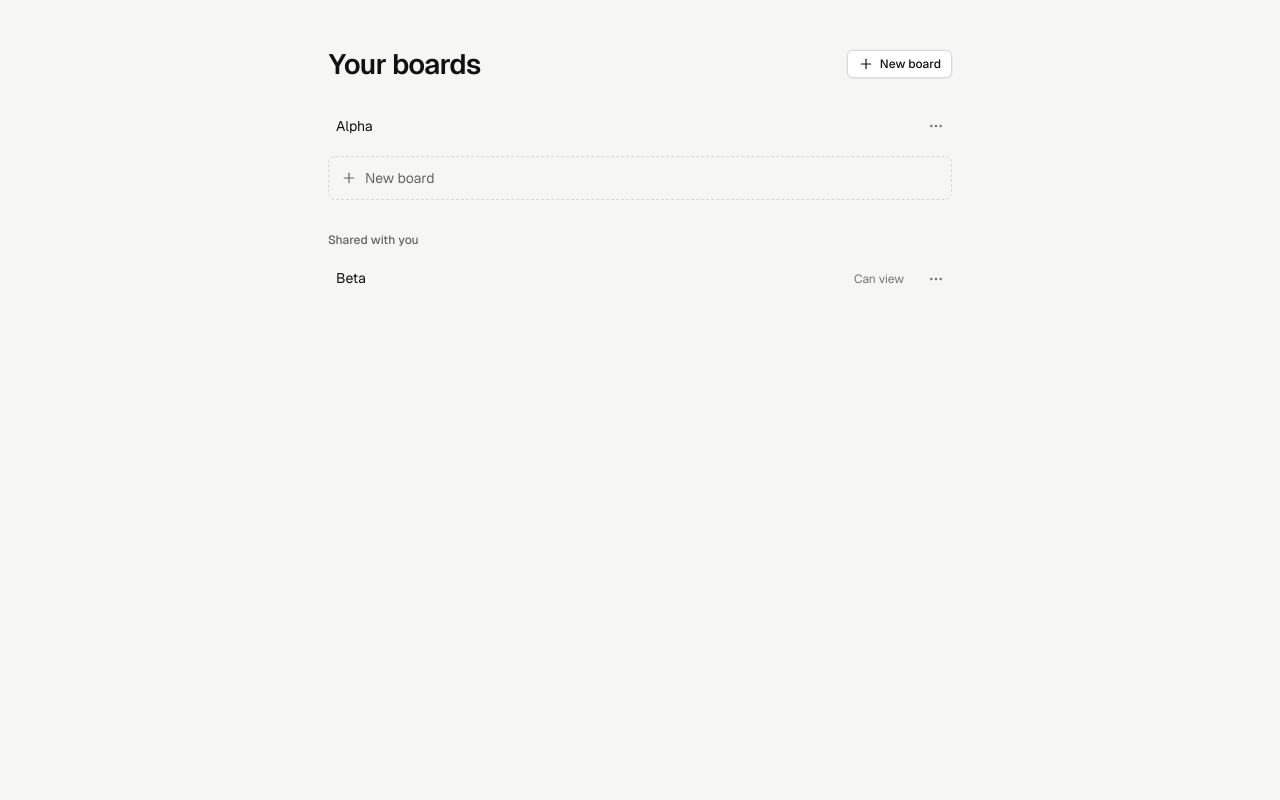
it: BoardHome › confirms a deletion with the board name and note count before deleting
What coordinates should you click on to do the following:
click the button named "Options for Alpha"
I would click on:
 (936, 126)
Its box is [920,110,952,142].
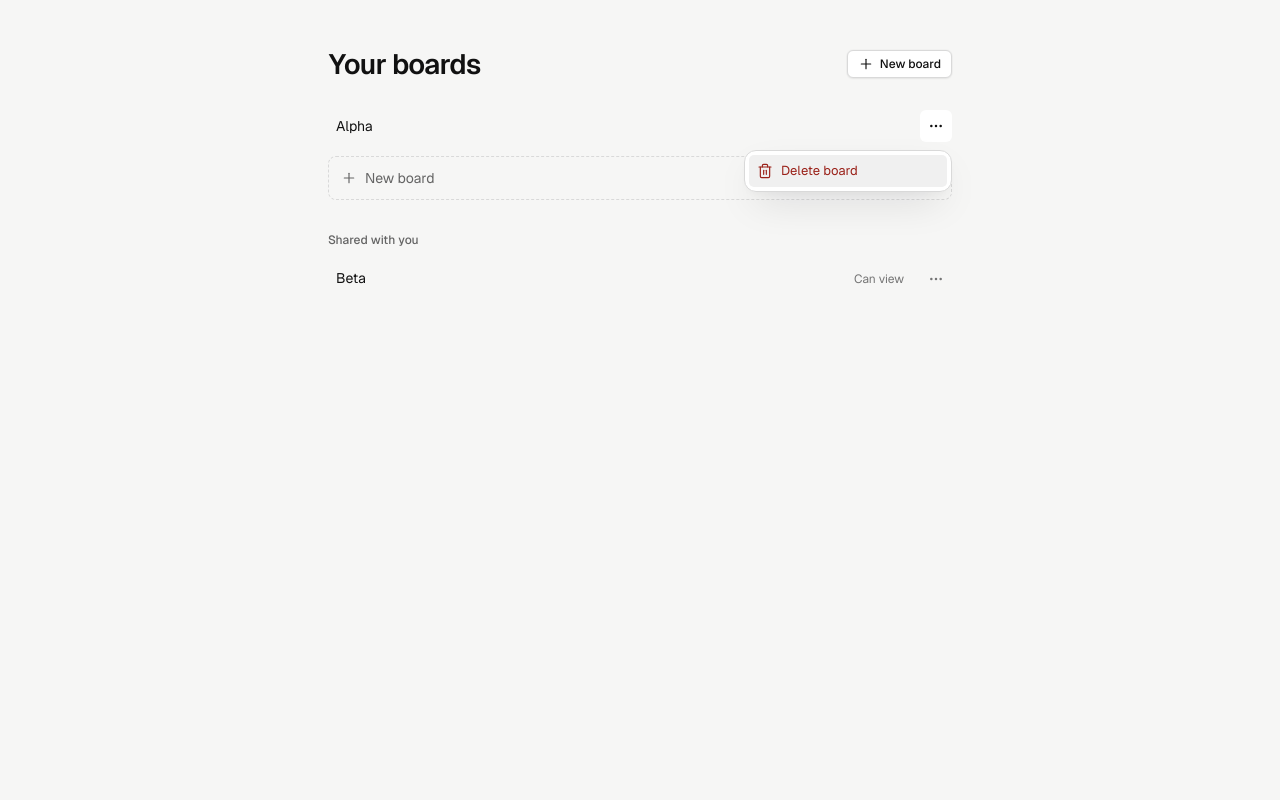
What coordinates should you click on to do the following:
click the button "Delete board"
I would click on:
 (848, 171)
Its box is [749,155,947,187].
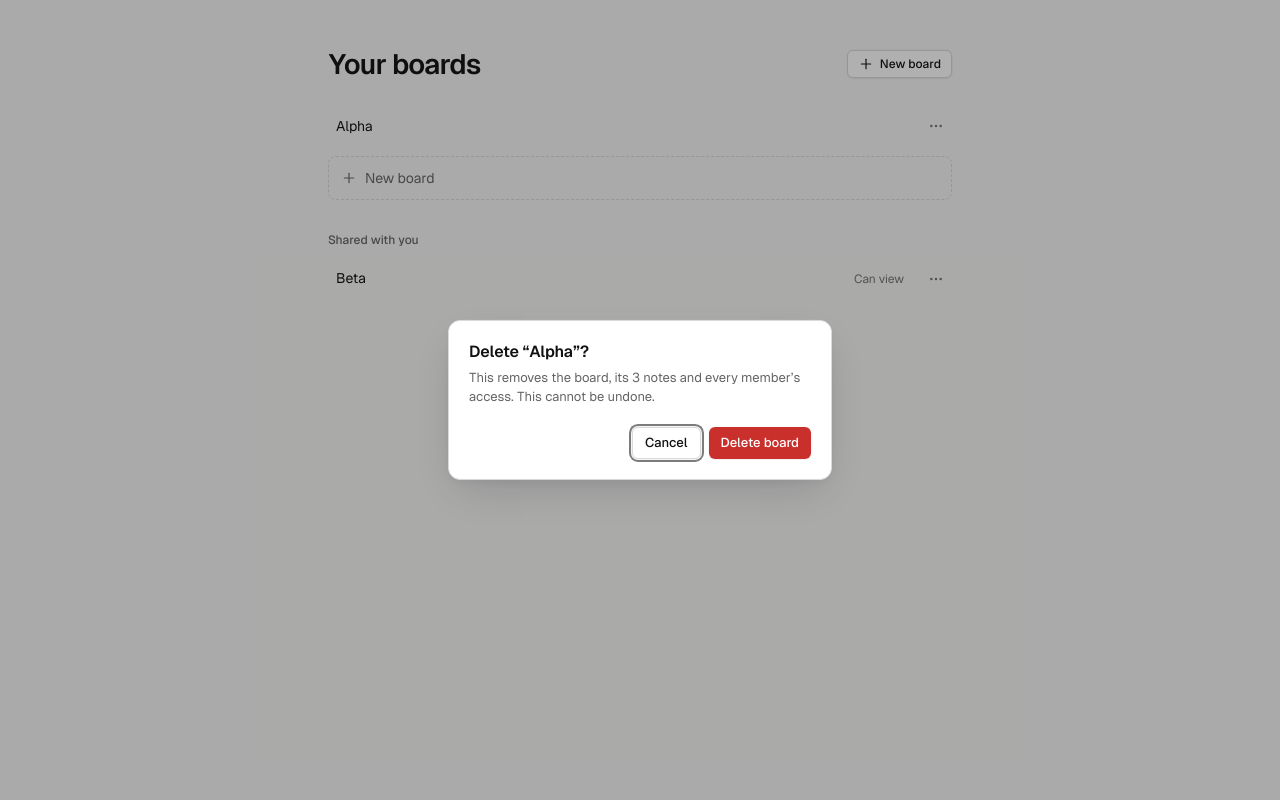
Now the heading "Delete “Alpha”?" is shown, box [469,342,589,361]
Now the text "its 3 notes" is shown, box [469,370,800,404]
What coordinates should you click on to do the following:
click the button "Delete board"
I would click on:
 (760, 443)
Its box is [708,427,811,459].
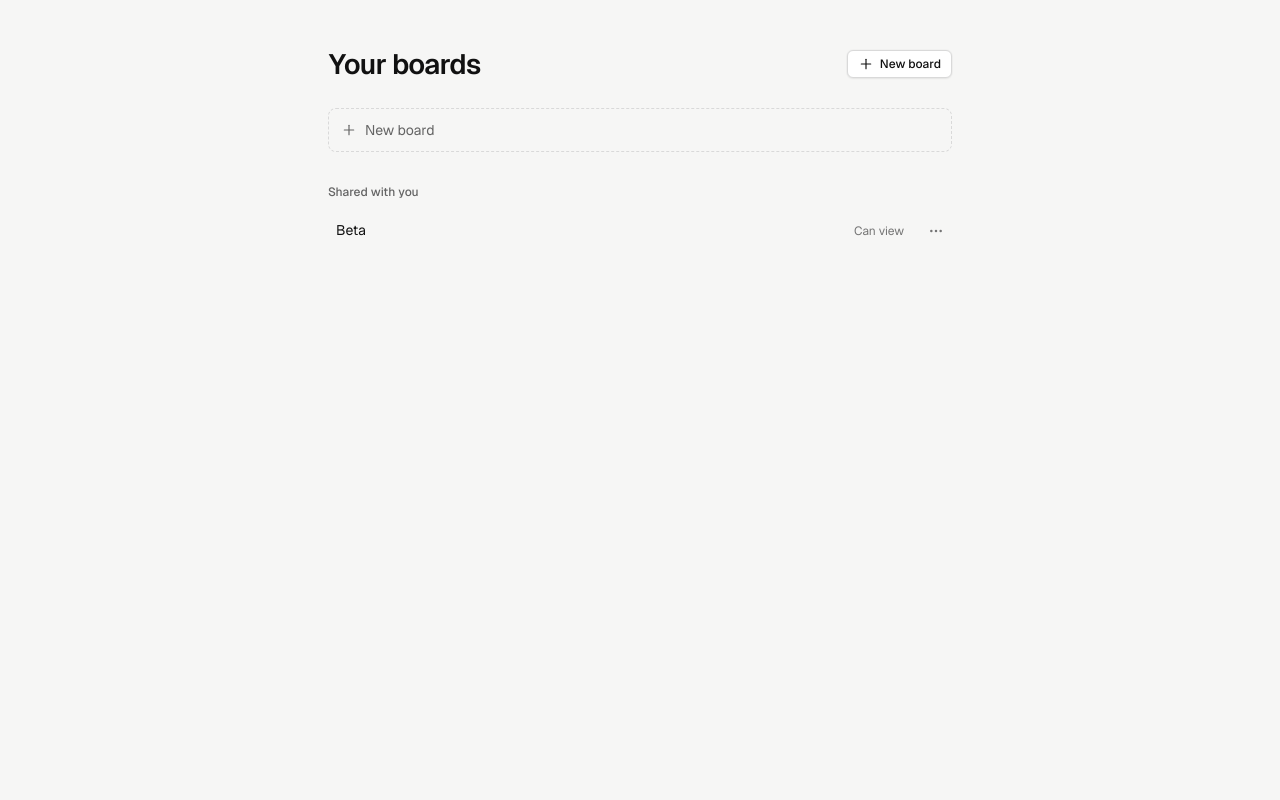
Now the link "Open Alpha" is gone
